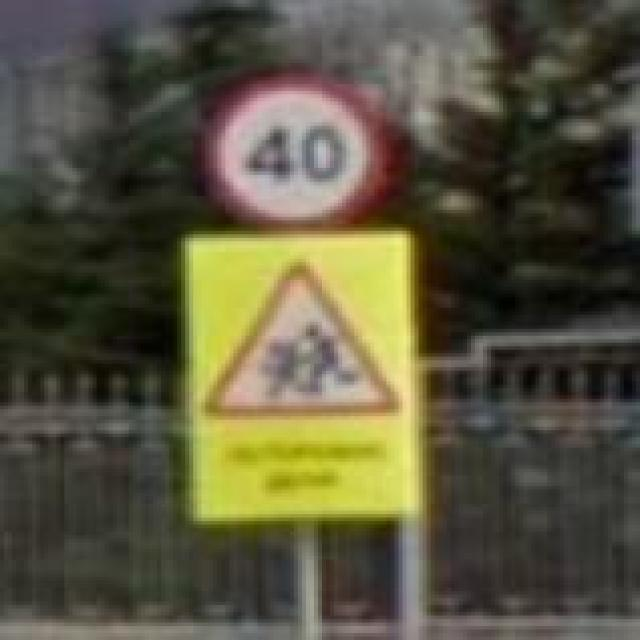Ograniczenie predkosci do 40: (206, 74, 387, 235)
